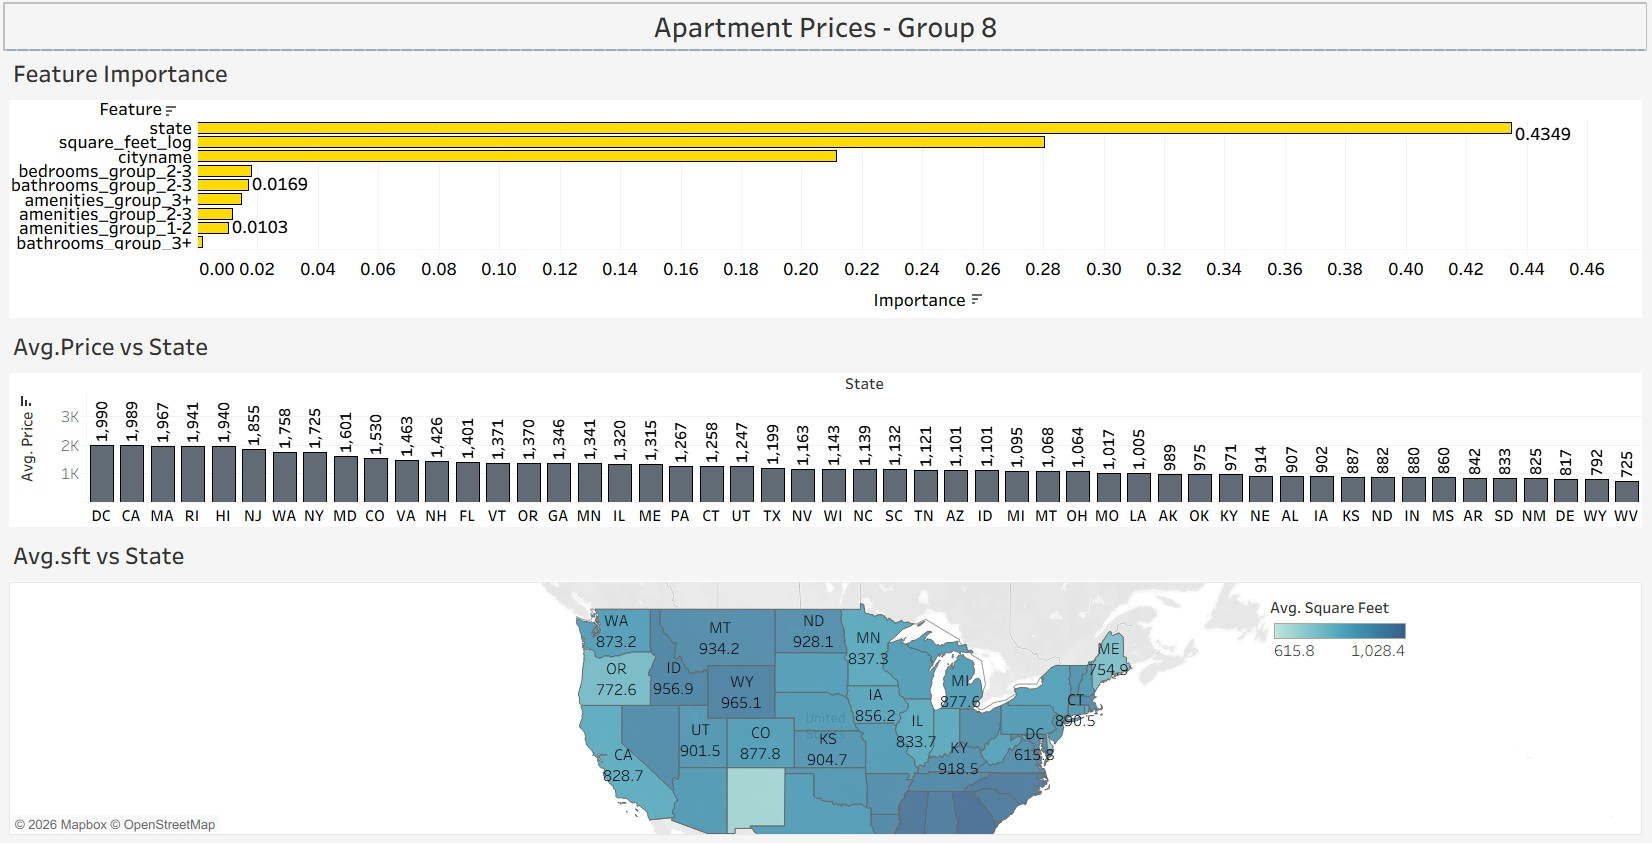

What the dashboard file says about the page in this screenshot:
{"tool":"tableau","page":{"name":"Apartment Prices","canvas":[1000,1000],"units":"permille","ordinal":0},"visuals":[{"type":"title","box":[4.8,9.4,990.4,52.9]},{"type":"worksheet","title":"Feature Importance","mark":"Automatic","rows":["Feature"],"cols":["Importance"],"box":[4.8,62.3,990.4,321.1]},{"type":"worksheet","title":"Avg.Price vs State","mark":"Automatic","rows":["price"],"cols":["state"],"box":[4.8,383.4,990.4,245.3]},{"type":"worksheet","title":"Avg.sft vs State","mark":"Automatic","box":[4.8,628.7,990.4,361.9]},{"type":"legend","title":"Avg.sft vs State","param":"[federated.1ukr2jg1ep25rm1bqqxhk0zv3mph].[avg:square_feet:qk]","box":[768.3,706.2,84.5,103.4]}]}

Visuals, with their boxes on the dashboard's canvas, which has no fixed pixel size, in thousandths of its width and height (x1, y1, x2, y2). These are canvas units, not pixel positions in the 1652x843 screenshot, which may show the page scaled, cropped or inside an application window:
title: detection(5, 9, 995, 62)
"Feature Importance" worksheet: detection(5, 62, 995, 383)
"Avg.Price vs State" worksheet: detection(5, 383, 995, 629)
"Avg.sft vs State" worksheet: detection(5, 629, 995, 991)
"Avg.sft vs State" legend: detection(768, 706, 853, 810)
